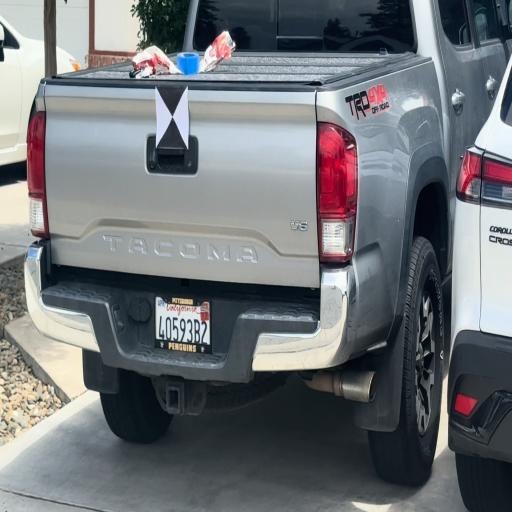target: (156, 86, 188, 149)
